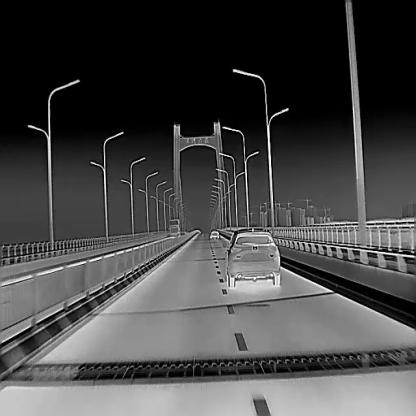bus: (168, 219, 180, 237)
car: (226, 227, 280, 287), (209, 228, 218, 238)
